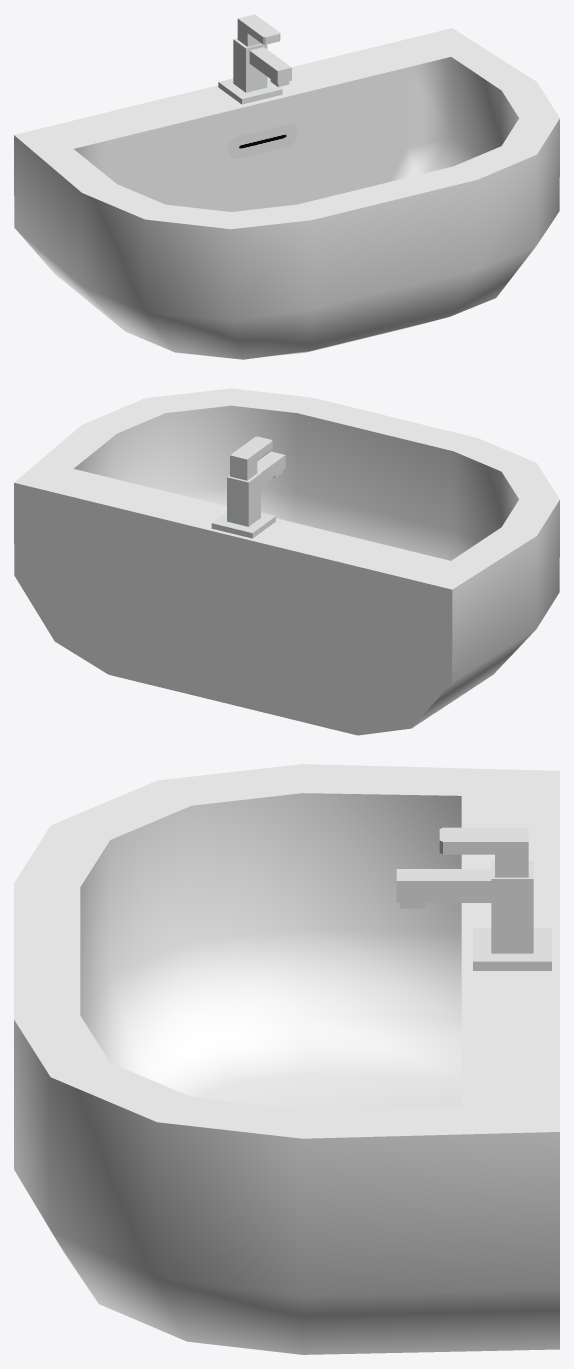
Rendered from Sink.fbx.
3 renders of one model, top to bottom at view 1: azimuth 30°, elevation 25°; view 2: azimuth 150°, elevation 25°; view 3: azimuth 270°, elevation 25°, orthographic. The views are drawn at different scales.
Visible parts, largest first — view 1: Sink1_pCylinder126; view 2: Sink1_pCylinder126; view 3: Sink1_pCylinder126.
Part boxes in pixels (bbox=[...]): Sink1_pCylinder126: bbox=[14, 14, 559, 359]; Sink1_pCylinder126: bbox=[14, 388, 559, 735]; Sink1_pCylinder126: bbox=[14, 764, 559, 1354].
Bounding box in the file's own units: 81.36 × 41.01 × 50.11.
